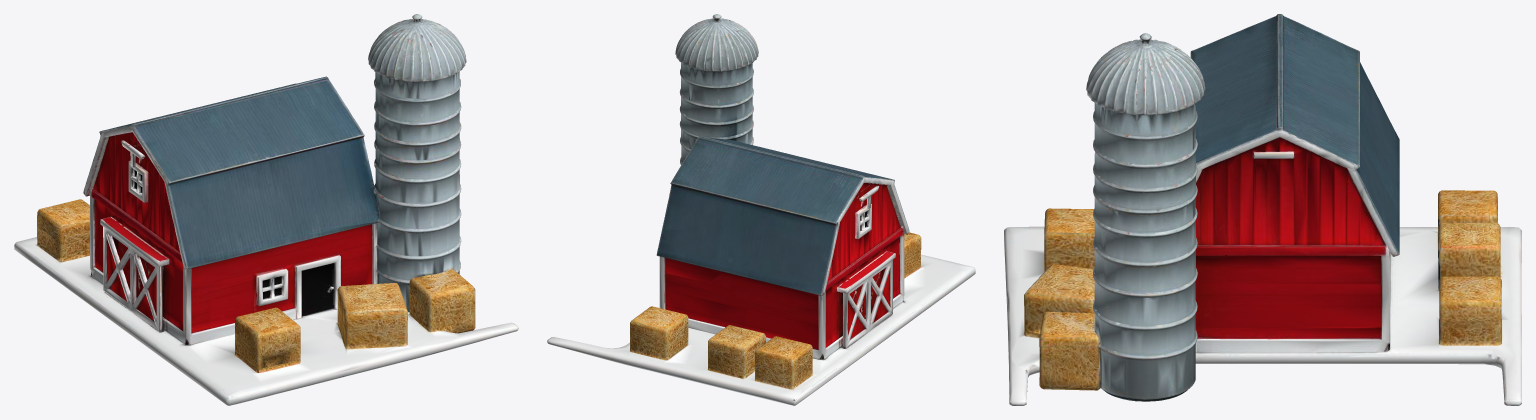
File: farm.glb
3 views of the same model, side by side, from view 1: azimuth 30°, elevation 25°; view 2: azimuth 150°, elevation 25°; view 3: azimuth 270°, elevation 25° (orthographic). The views are drawn at different scales.
Visible parts, largest first — view 1: farm; view 2: farm; view 3: farm.
Boxes of the visible parts, x1,y1,x2,y2 form: farm: (14,14,518,405); farm: (547,14,975,405); farm: (1004,14,1521,405).
Size of the model in its own units: 1.06 by 1 by 1.34.
Materials: 1 (1 with a texture image).
